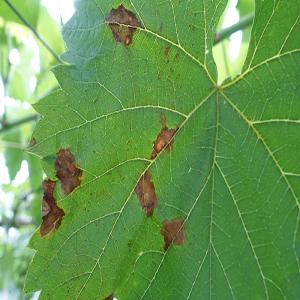Folha: (21, 0, 299, 299)
Fungo: (105, 3, 143, 49), (39, 177, 65, 237), (53, 147, 83, 197), (150, 112, 179, 160), (134, 170, 158, 218), (160, 217, 186, 252), (102, 292, 118, 299), (163, 46, 170, 57), (124, 34, 130, 46), (174, 52, 179, 59)
